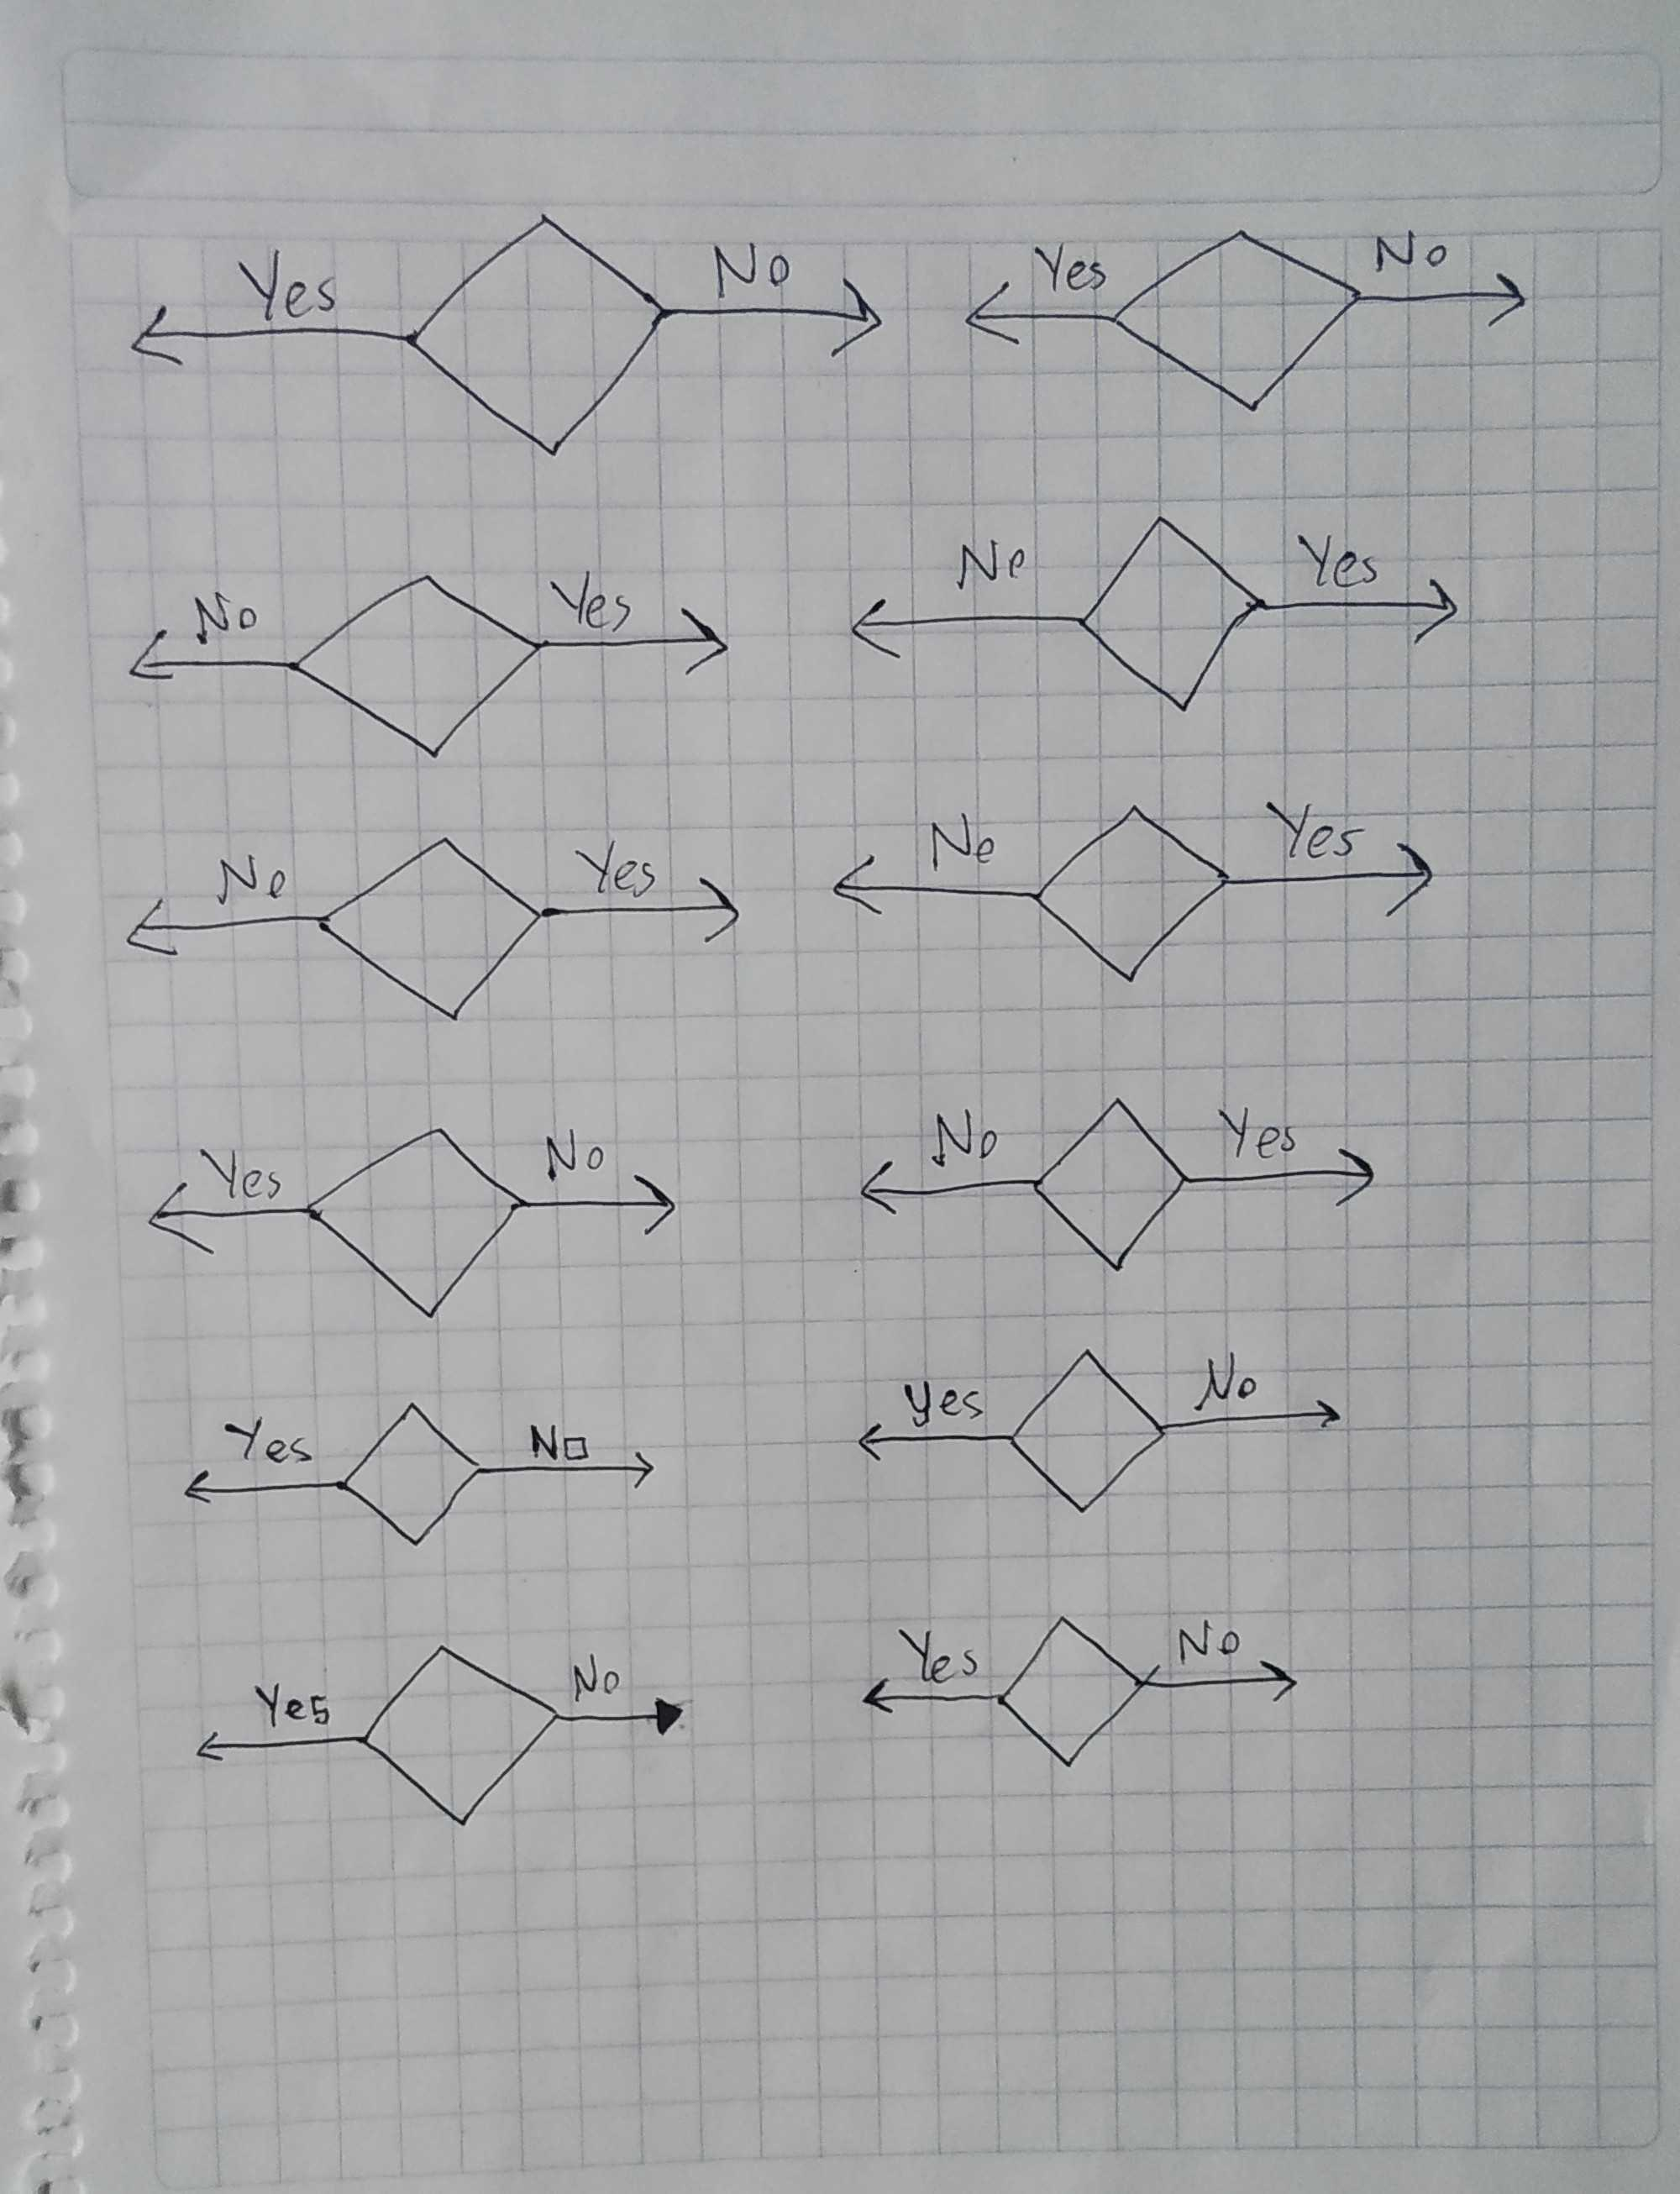arrow_line_left: (122, 289, 416, 381), (835, 582, 1087, 667), (821, 849, 1041, 930), (134, 1174, 314, 1264), (113, 888, 323, 964), (111, 616, 298, 699), (962, 272, 1122, 357), (852, 1151, 1043, 1221), (173, 1454, 349, 1520), (185, 1712, 365, 1770), (851, 1668, 1006, 1728), (845, 1412, 1018, 1463)
arrow_line_right: (656, 270, 888, 364), (538, 861, 762, 957), (1223, 830, 1438, 923), (1256, 568, 1470, 655), (536, 597, 734, 687), (1184, 1140, 1382, 1213), (517, 1161, 679, 1246), (1354, 265, 1535, 332), (476, 1433, 660, 1495), (1138, 1647, 1299, 1707), (551, 1680, 690, 1747), (1163, 1391, 1343, 1442)
decision: (408, 198, 671, 466), (293, 560, 551, 764), (1112, 219, 1366, 425), (318, 828, 549, 1033), (307, 1114, 524, 1327), (362, 1627, 563, 1834), (1029, 791, 1234, 990), (1082, 503, 1262, 725), (1029, 1082, 1191, 1280), (1008, 1340, 1166, 1518), (995, 1608, 1149, 1776), (337, 1391, 484, 1557)
